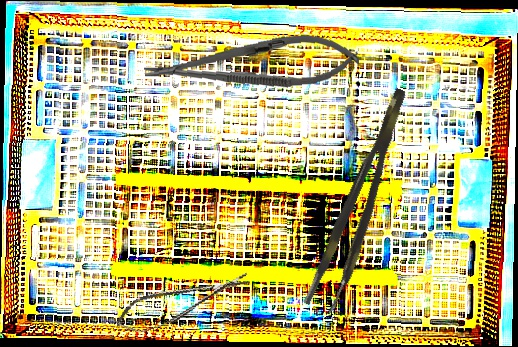Micro Scissor: (111, 265, 255, 339)
Needle Holder: (142, 29, 361, 98)
Tissue Forceps: (301, 86, 427, 316)
